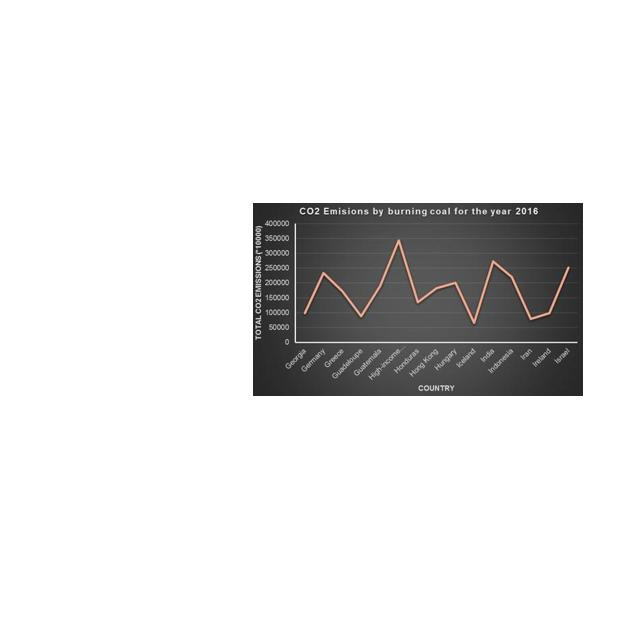Graph: (253, 203, 583, 396)
